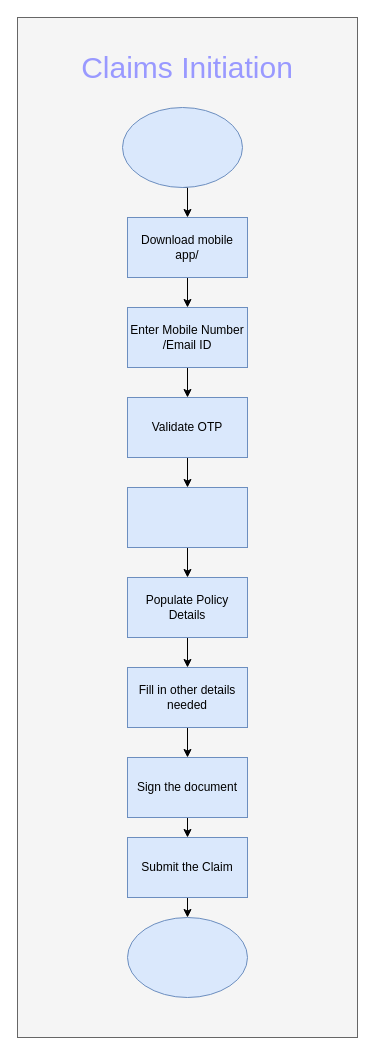
Image size: 375x1055. Some labels were removed from this diagram. The centre of each missing label's shape, as x and y in pixels:
End of Claims Initiation: point 187,957
Enter/Select Policy Number: point 187,517
Start: point 182,147
